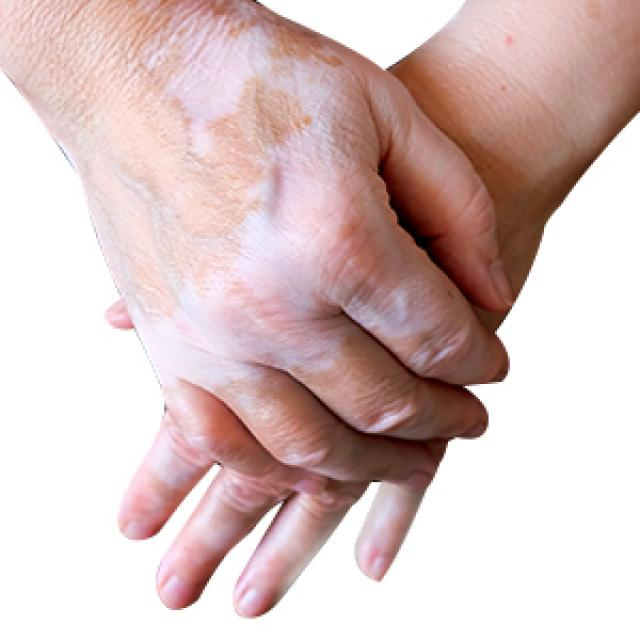vitiligo: (94, 28, 479, 480)
